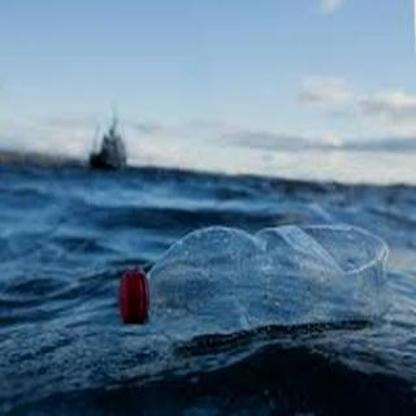plastic bottle: (118, 224, 390, 343)
